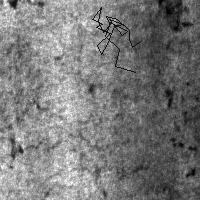crazing: (76, 113, 147, 197), (1, 97, 65, 158), (92, 7, 139, 72)
